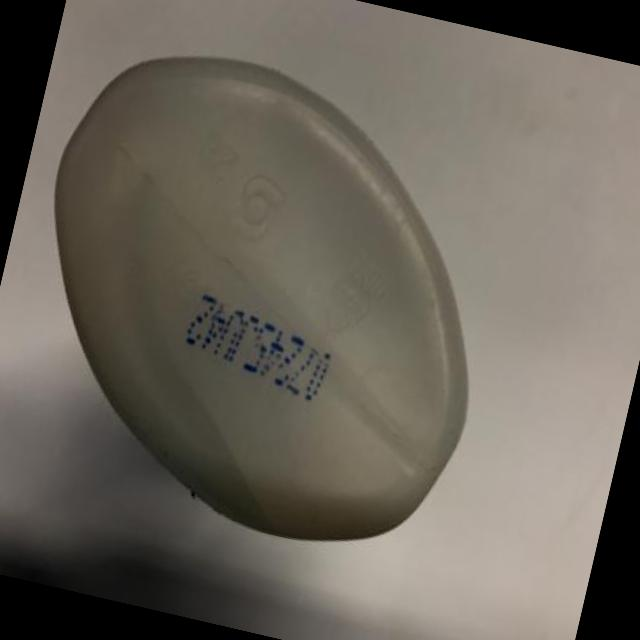Trash: (0, 8, 539, 579)
